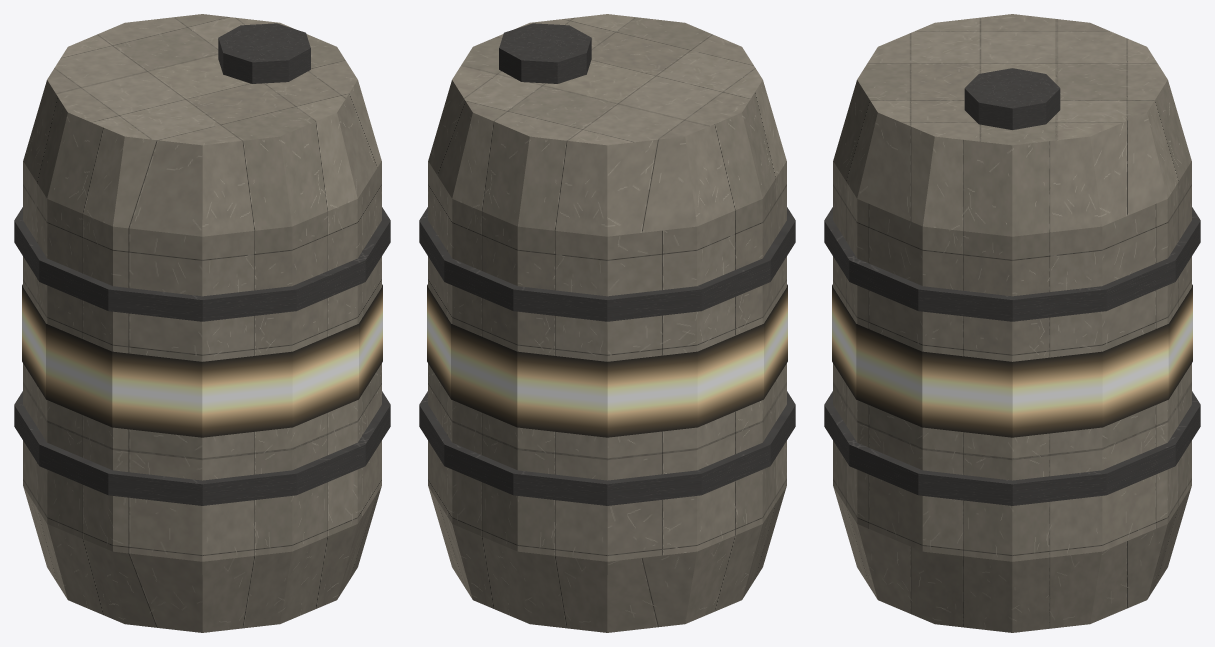
File: prop_barrel_chem.obj
3 renders of one model, left to right at view 1: azimuth 30°, elevation 25°; view 2: azimuth 150°, elevation 25°; view 3: azimuth 270°, elevation 25°, orthographic.
Parts seen in each view (by area): view 1: prop_barrel_chem; view 2: prop_barrel_chem; view 3: prop_barrel_chem.
Part boxes in pixels (bbox=[...]): prop_barrel_chem: bbox=[14, 14, 390, 632]; prop_barrel_chem: bbox=[419, 14, 795, 632]; prop_barrel_chem: bbox=[824, 14, 1200, 632].
Size of the model in its own units: 0.63 by 0.94 by 0.63.
Materials: 1 (1 with a texture image).
